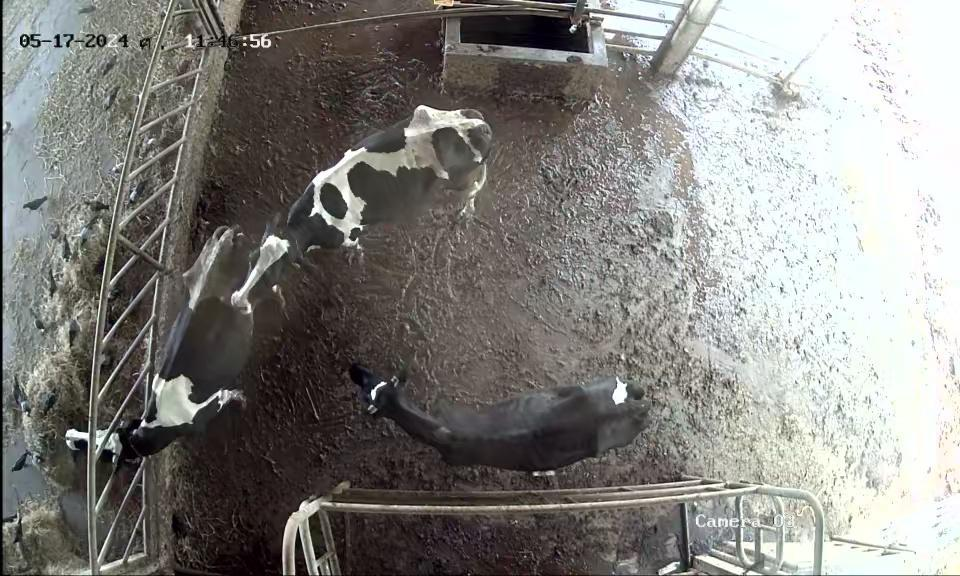eat: (47, 398, 164, 481)
stand: (222, 93, 532, 332), (337, 355, 672, 474)
